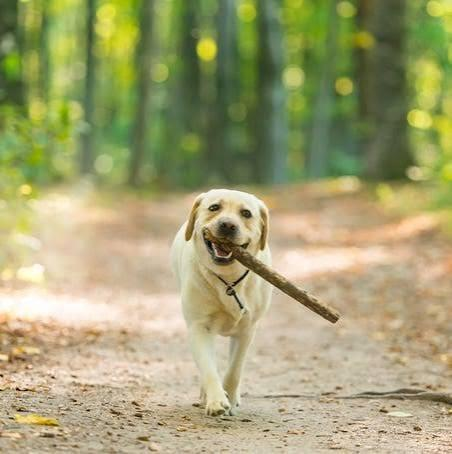adult_dog: (164, 188, 279, 420)
